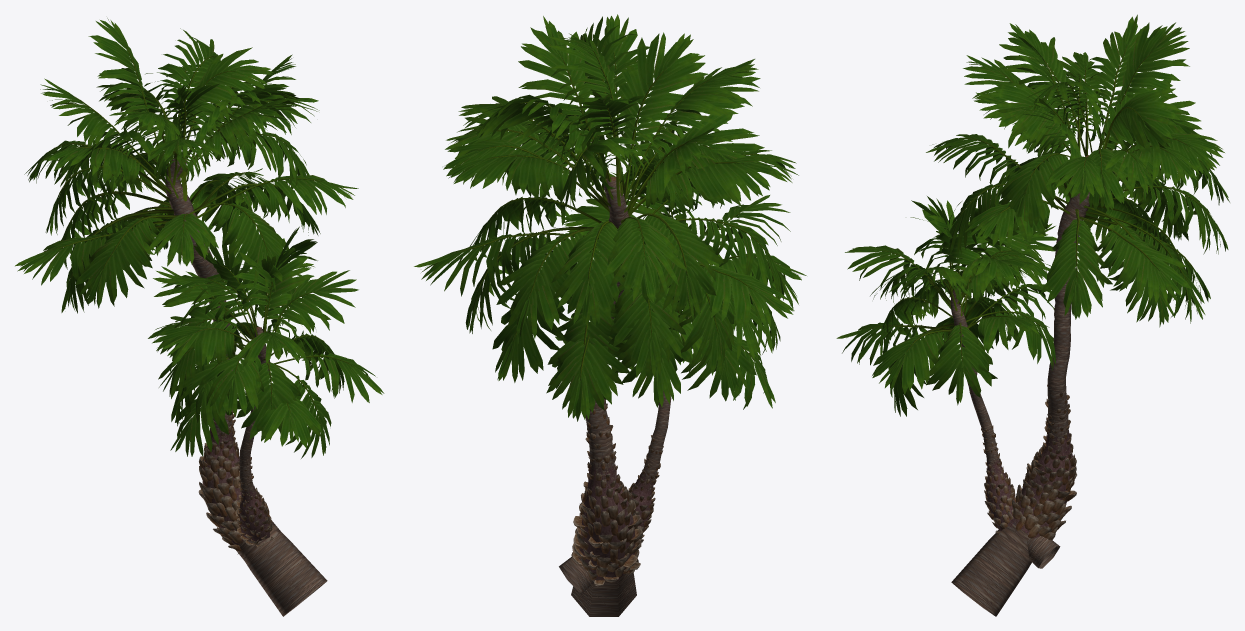
The picture shows the model from 3 angles, left to right: view 1: azimuth 30°, elevation 25°; view 2: azimuth 150°, elevation 25°; view 3: azimuth 270°, elevation 25°; orthographic projection. The views are drawn at different scales.
Visible parts, largest first — view 1: SM_Palm_03_LOD0; view 2: SM_Palm_03_LOD0; view 3: SM_Palm_03_LOD0.
Part boxes in pixels (x1,y1,x2,y2): SM_Palm_03_LOD0: [15, 18, 384, 616]; SM_Palm_03_LOD0: [414, 14, 806, 616]; SM_Palm_03_LOD0: [836, 14, 1229, 616].
Bounding box in the file's own units: 11.39 × 20.24 × 13.32.
2 materials, 2 textured.
